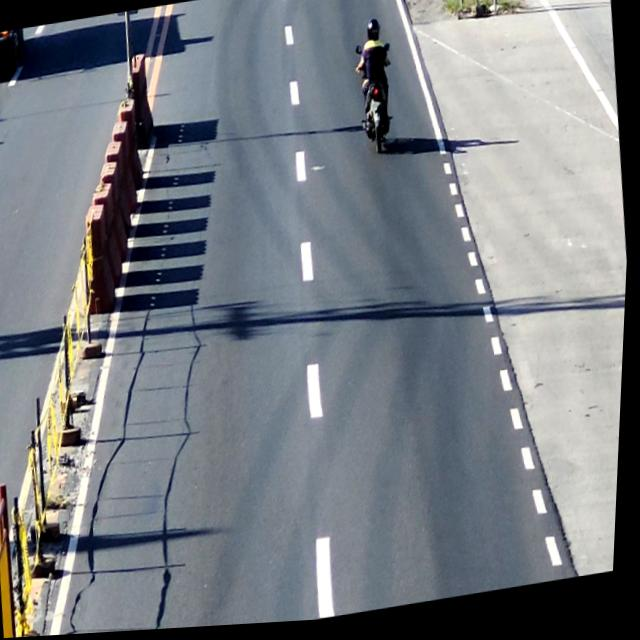Motorcycle: (352, 20, 402, 159)
